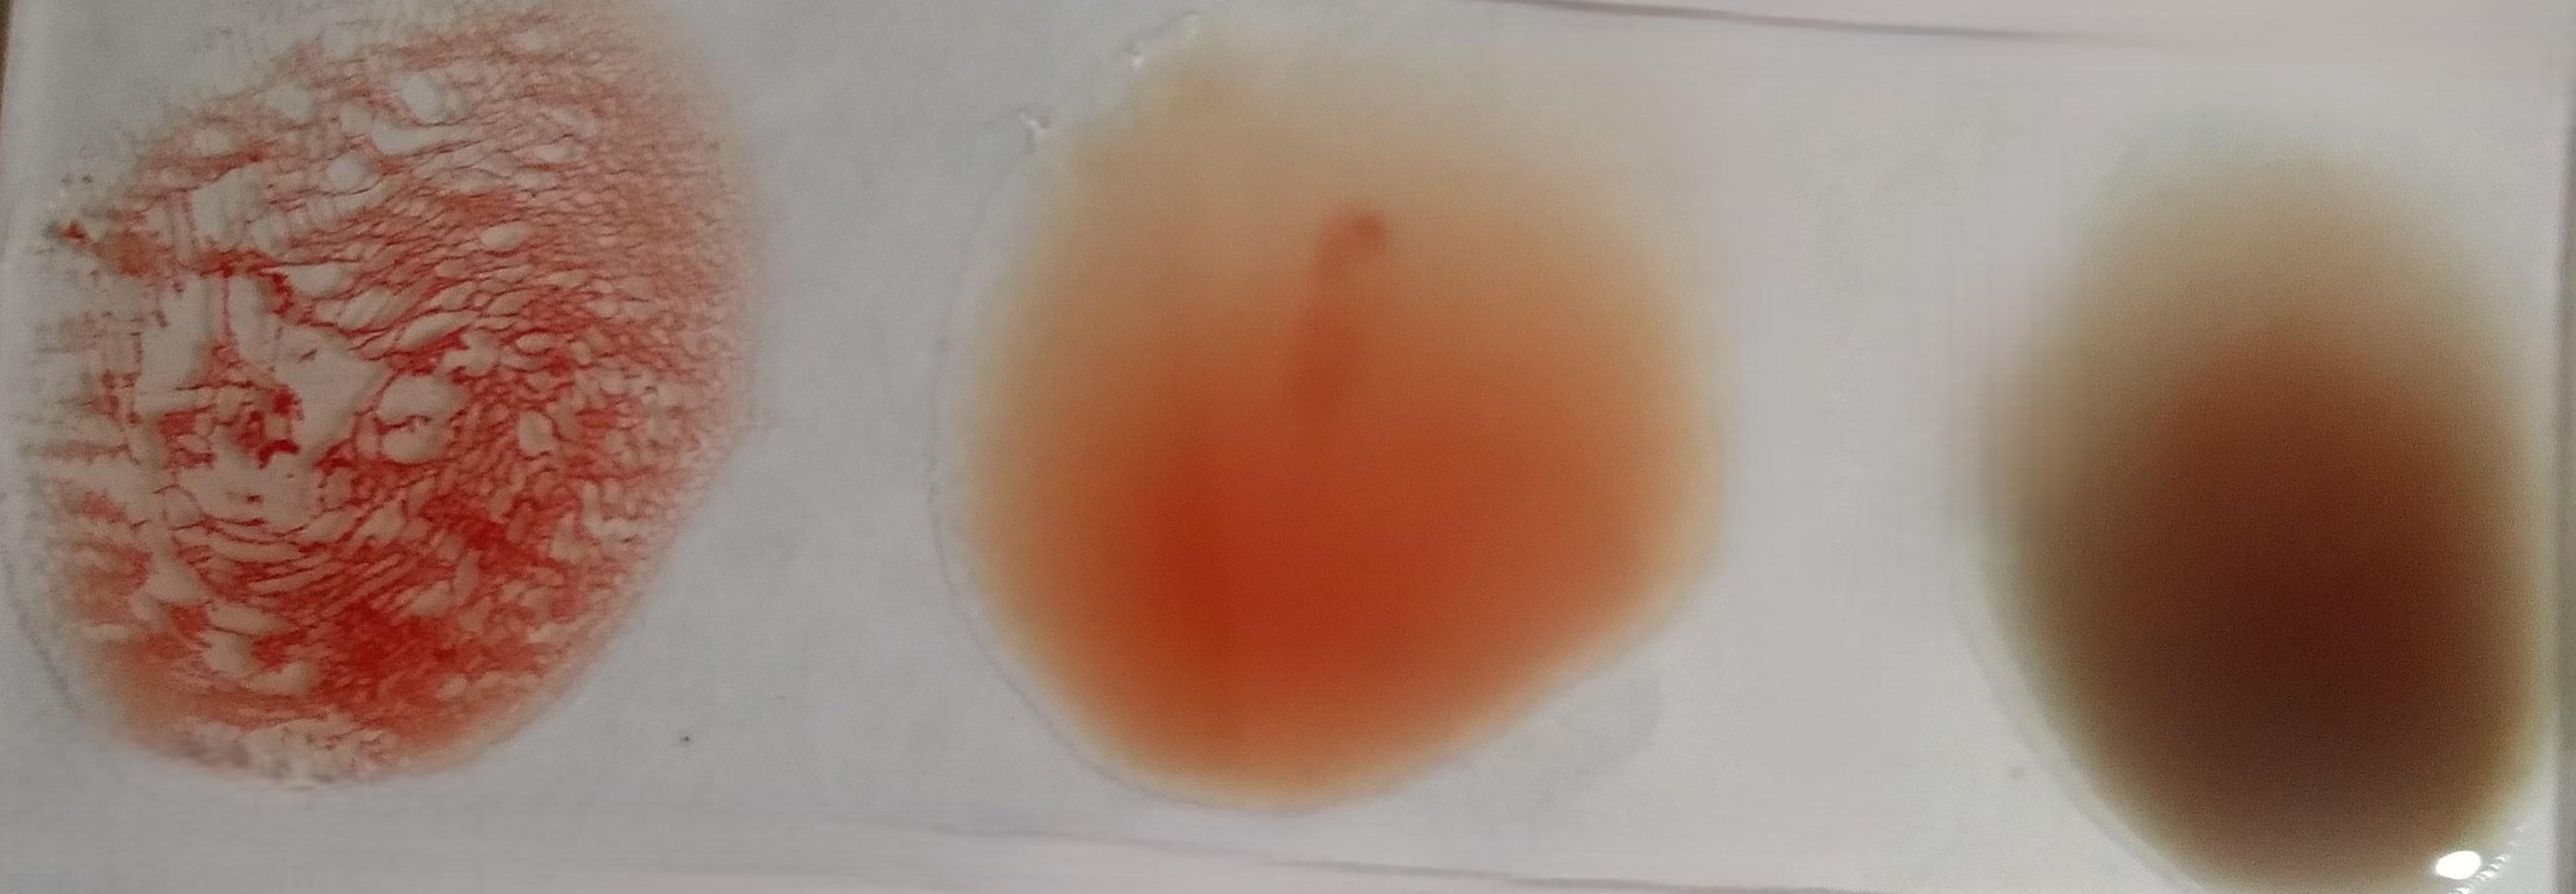D: (20, 26, 703, 794)
